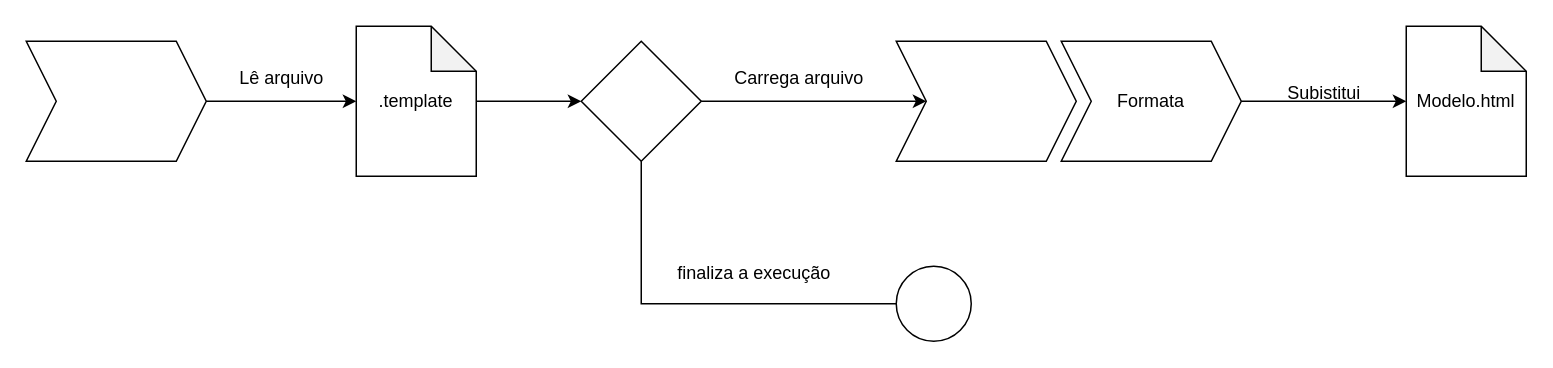
Some shapes in this 1553 by 368 pixel diagram are drawn without their labels. The shapes that lost their labels are listed below. From the top down, each one's centre as x and y in pixels, then its label:
At [115,100]: "Execução".
At [985,100]: "settings.py".
